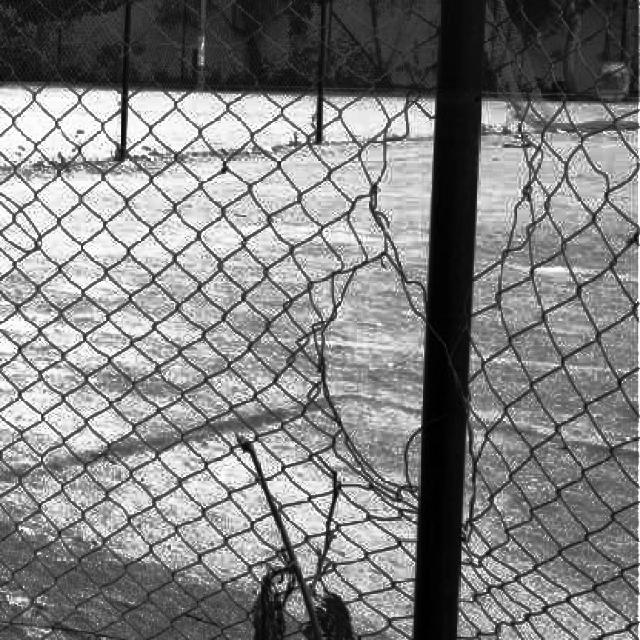anomaly-fence: (273, 64, 604, 538)
